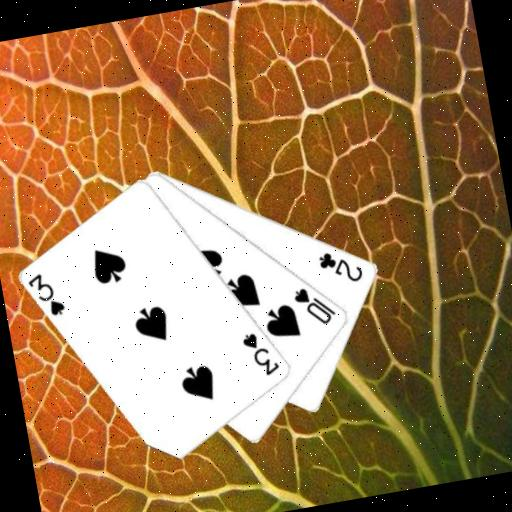10S: (289, 279, 340, 331)
2C: (314, 243, 366, 289)
3S: (238, 326, 283, 381), (24, 266, 68, 321)
